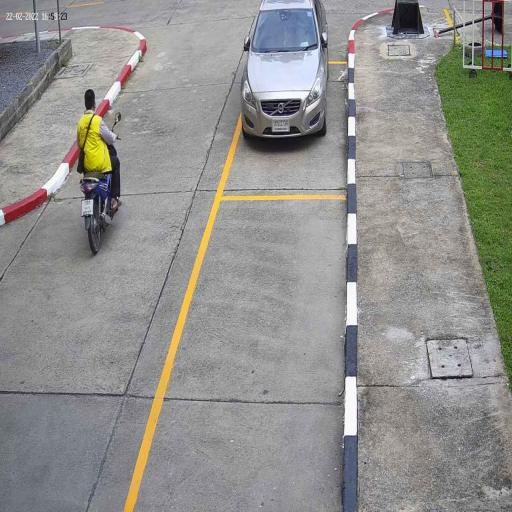car: (240, 0, 330, 144)
motorcycle: (80, 173, 122, 254)
